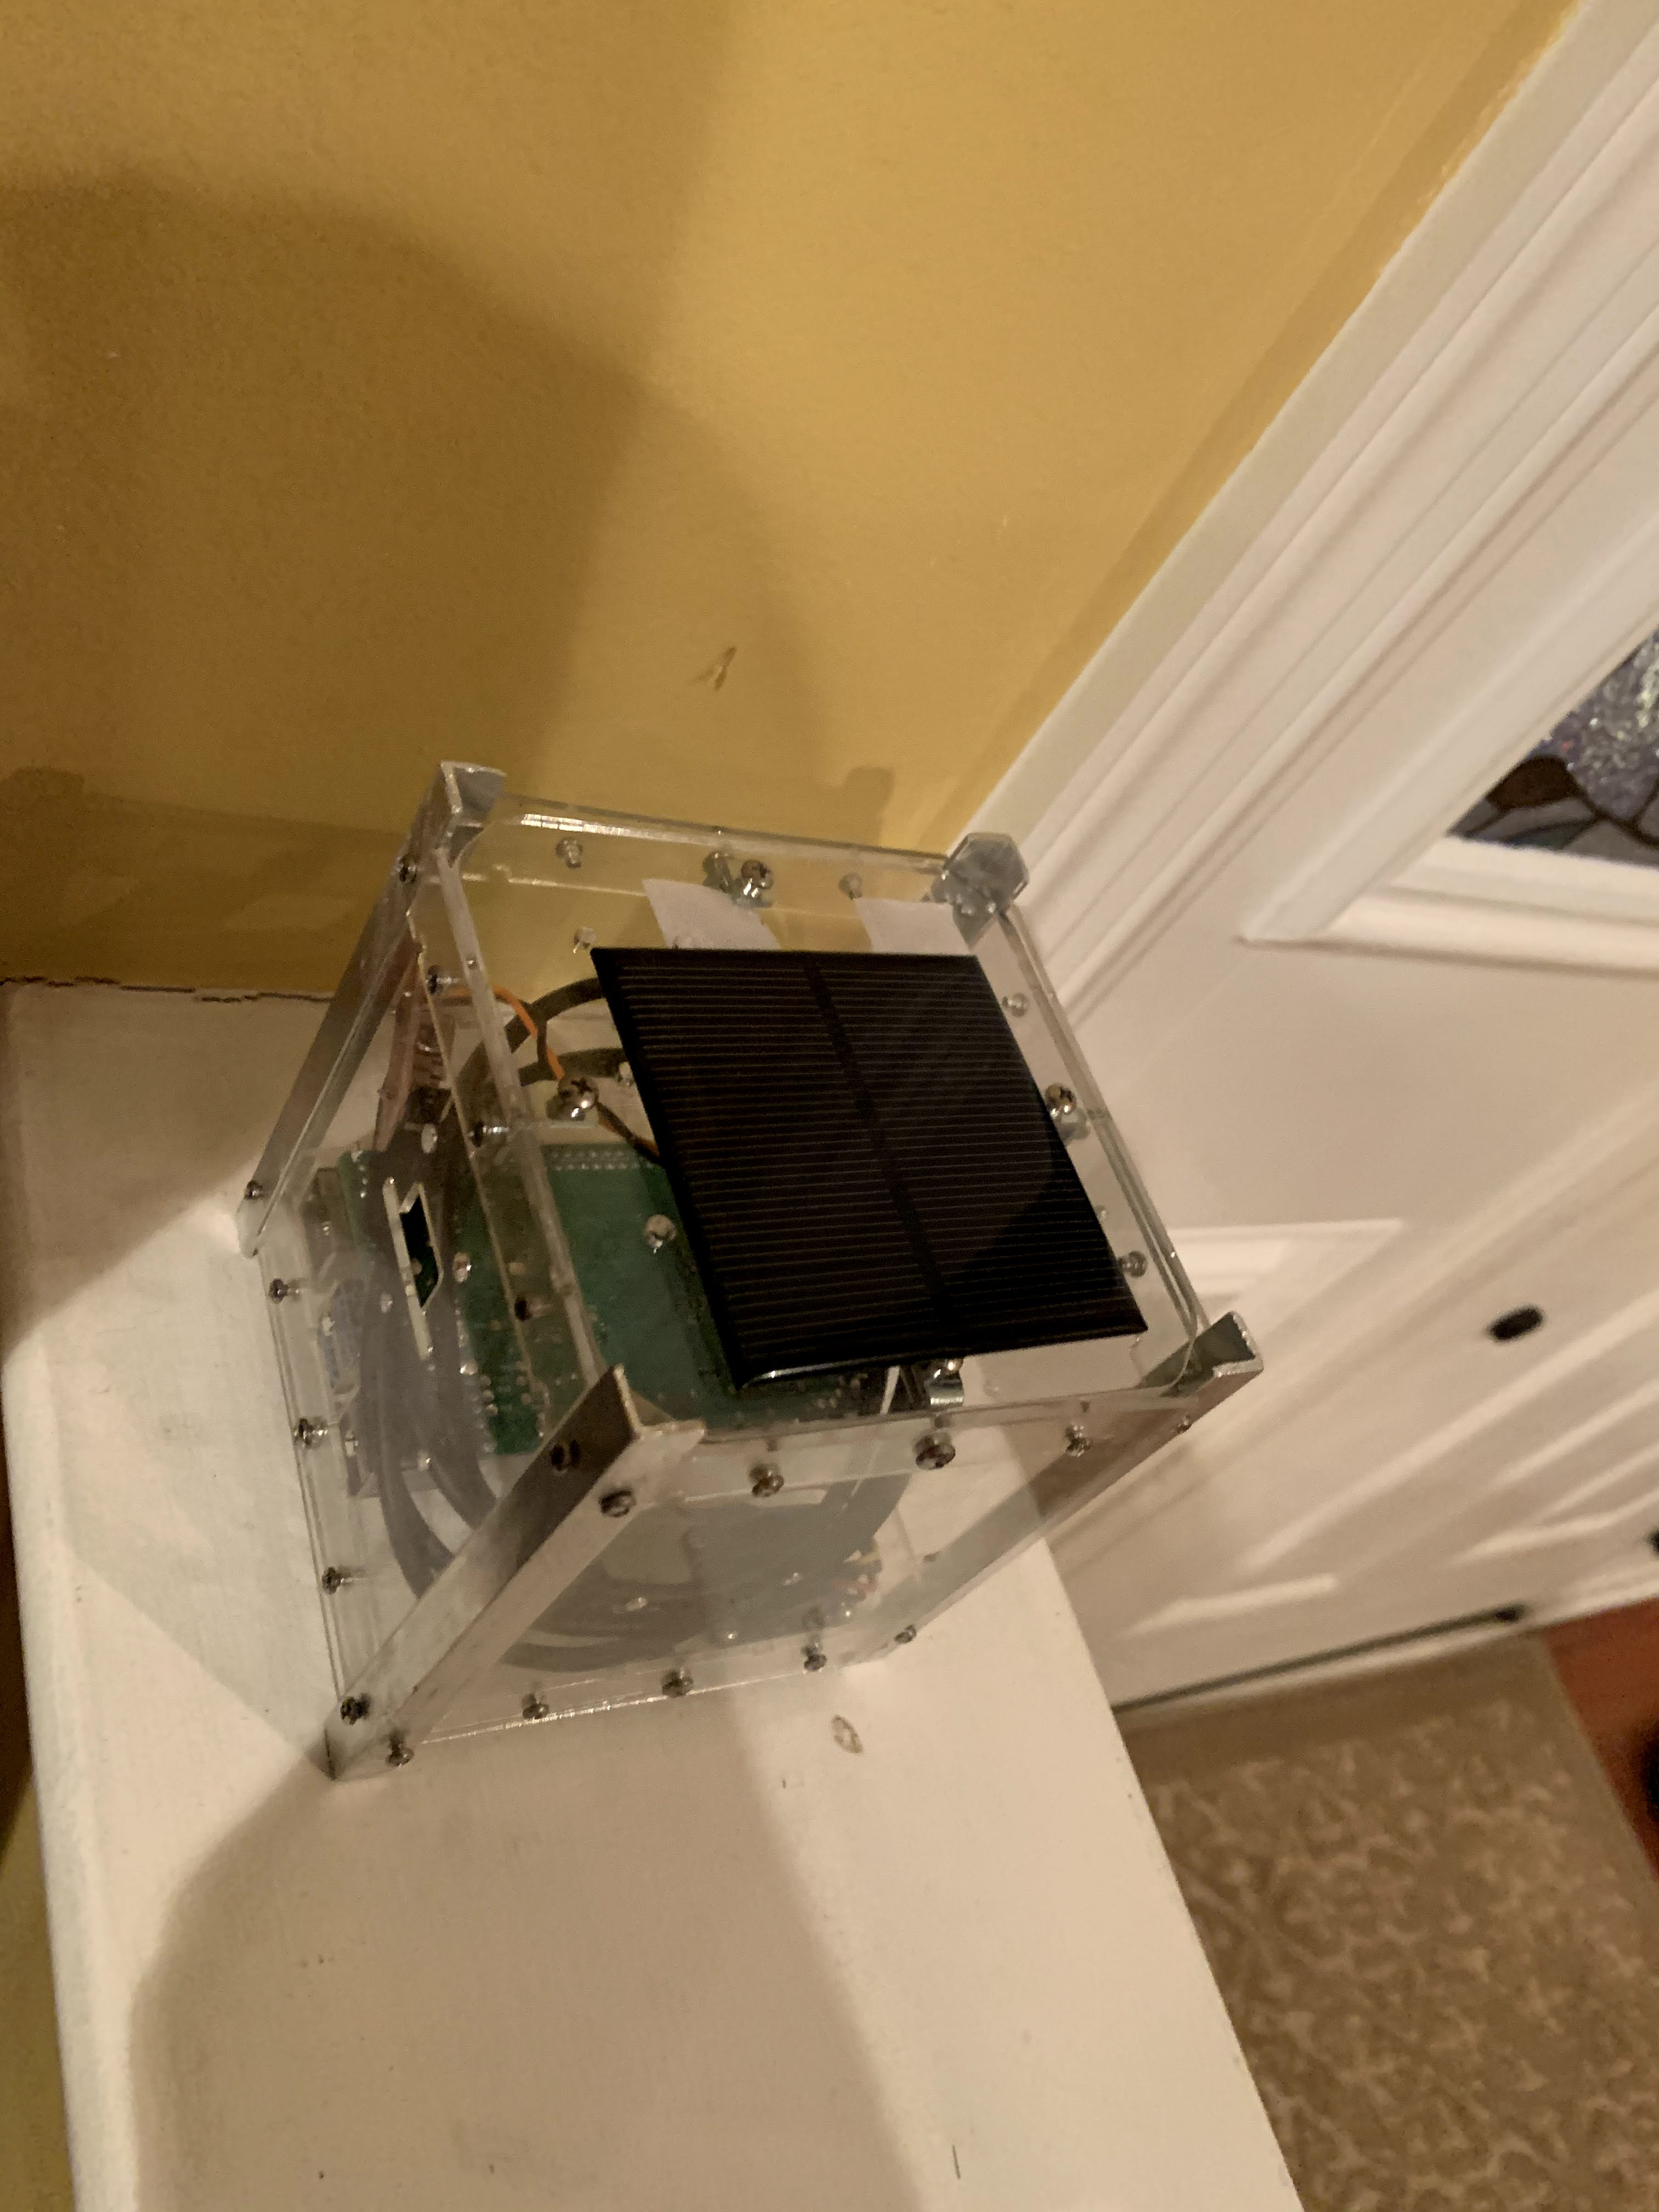Space-debris-cubesat: (218, 744, 1269, 1831)
